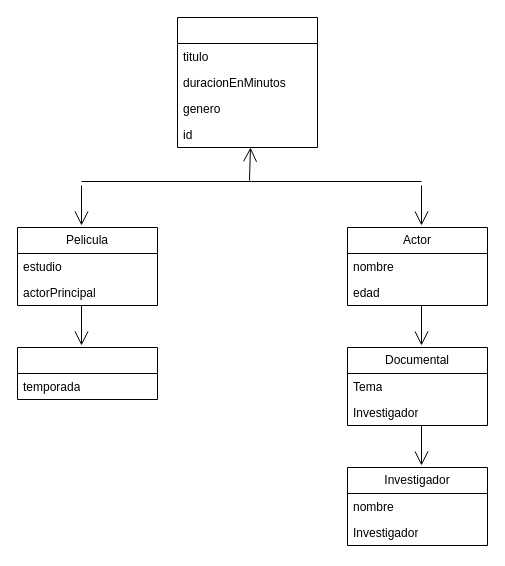
Some shapes in this 505 by 566 pixel diagram are drawn without their labels. The box of each missing label's shape, as (x1, y1, x2, y2) in pixels:
Contenido Audiovisual: (176, 16, 318, 148)
SerieDeTelevision: (16, 346, 158, 400)
